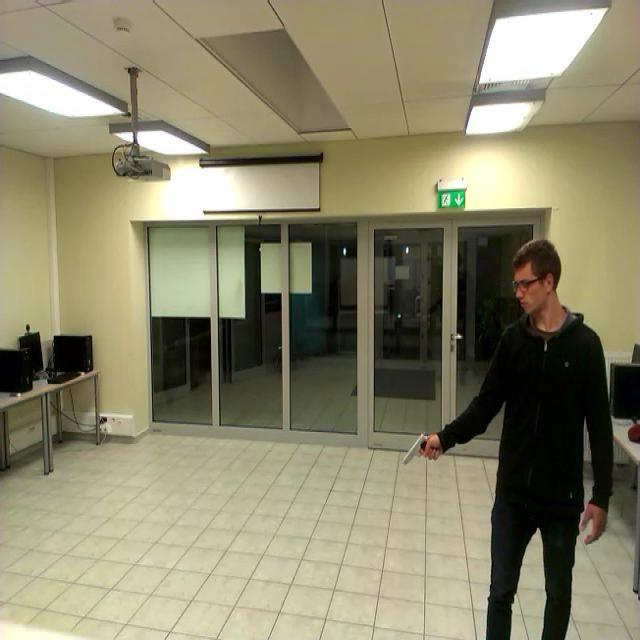weapon: (398, 436, 438, 470)
